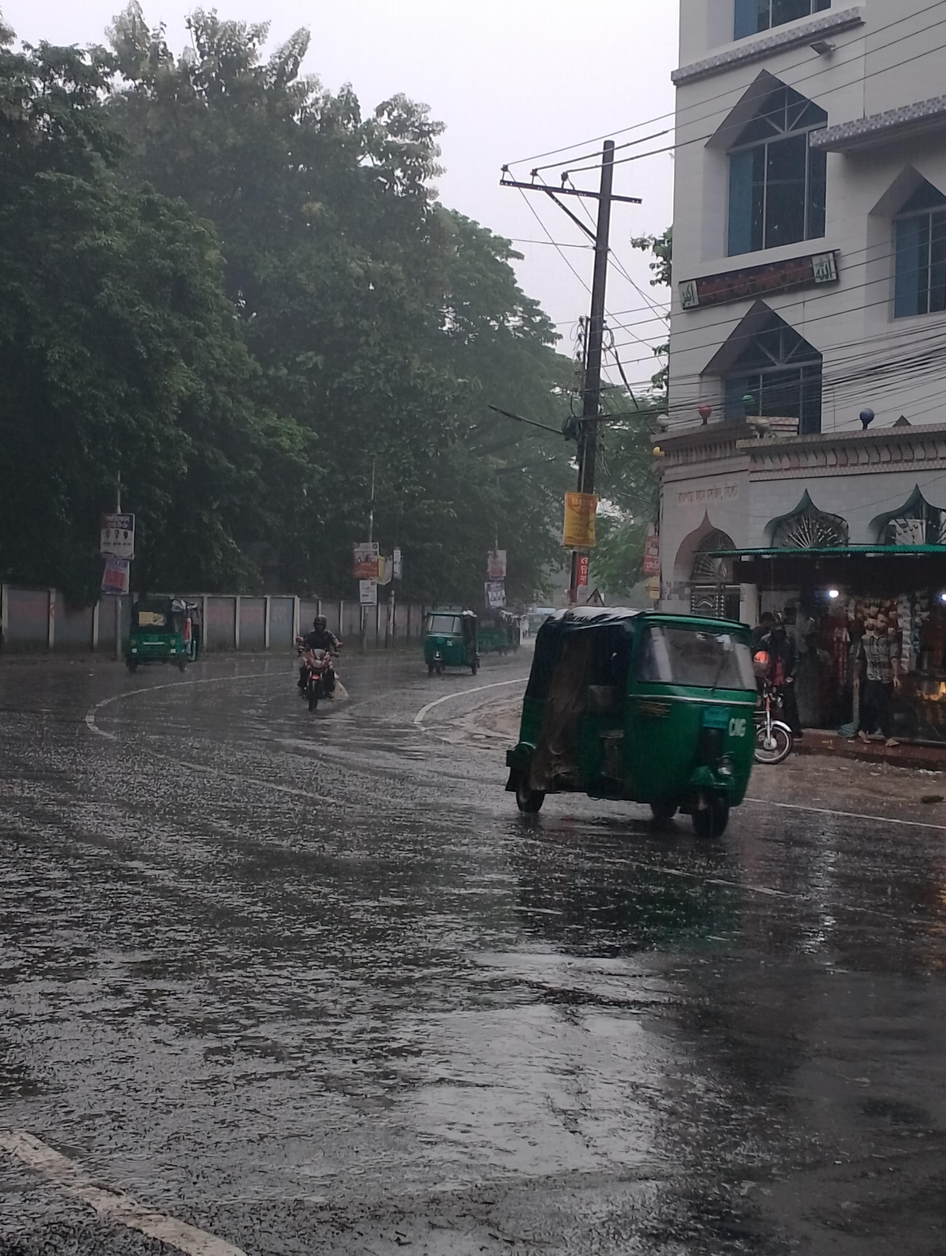Bike: (286, 593, 356, 726)
